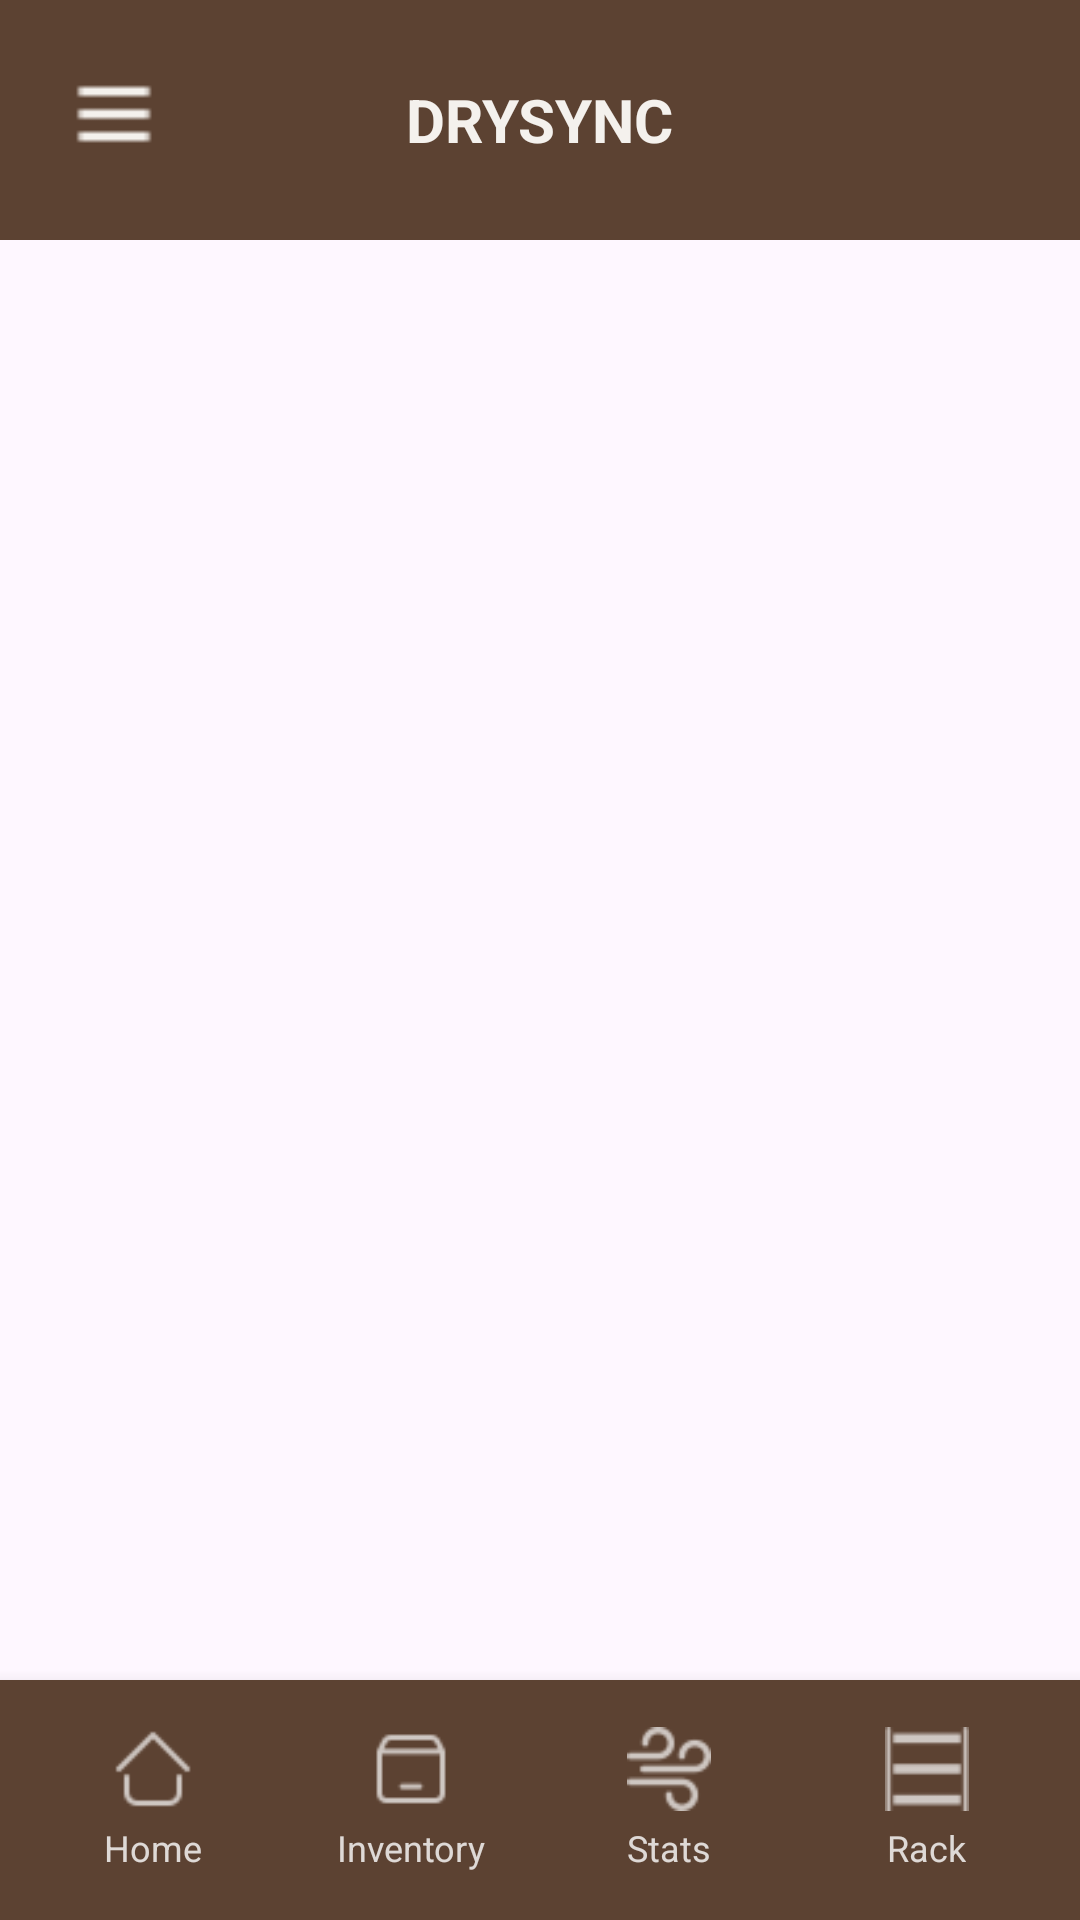

Named icons in this screenshot (1080x1920) and their centers, (x=x, y=y):
burger: (x=114, y=114)
